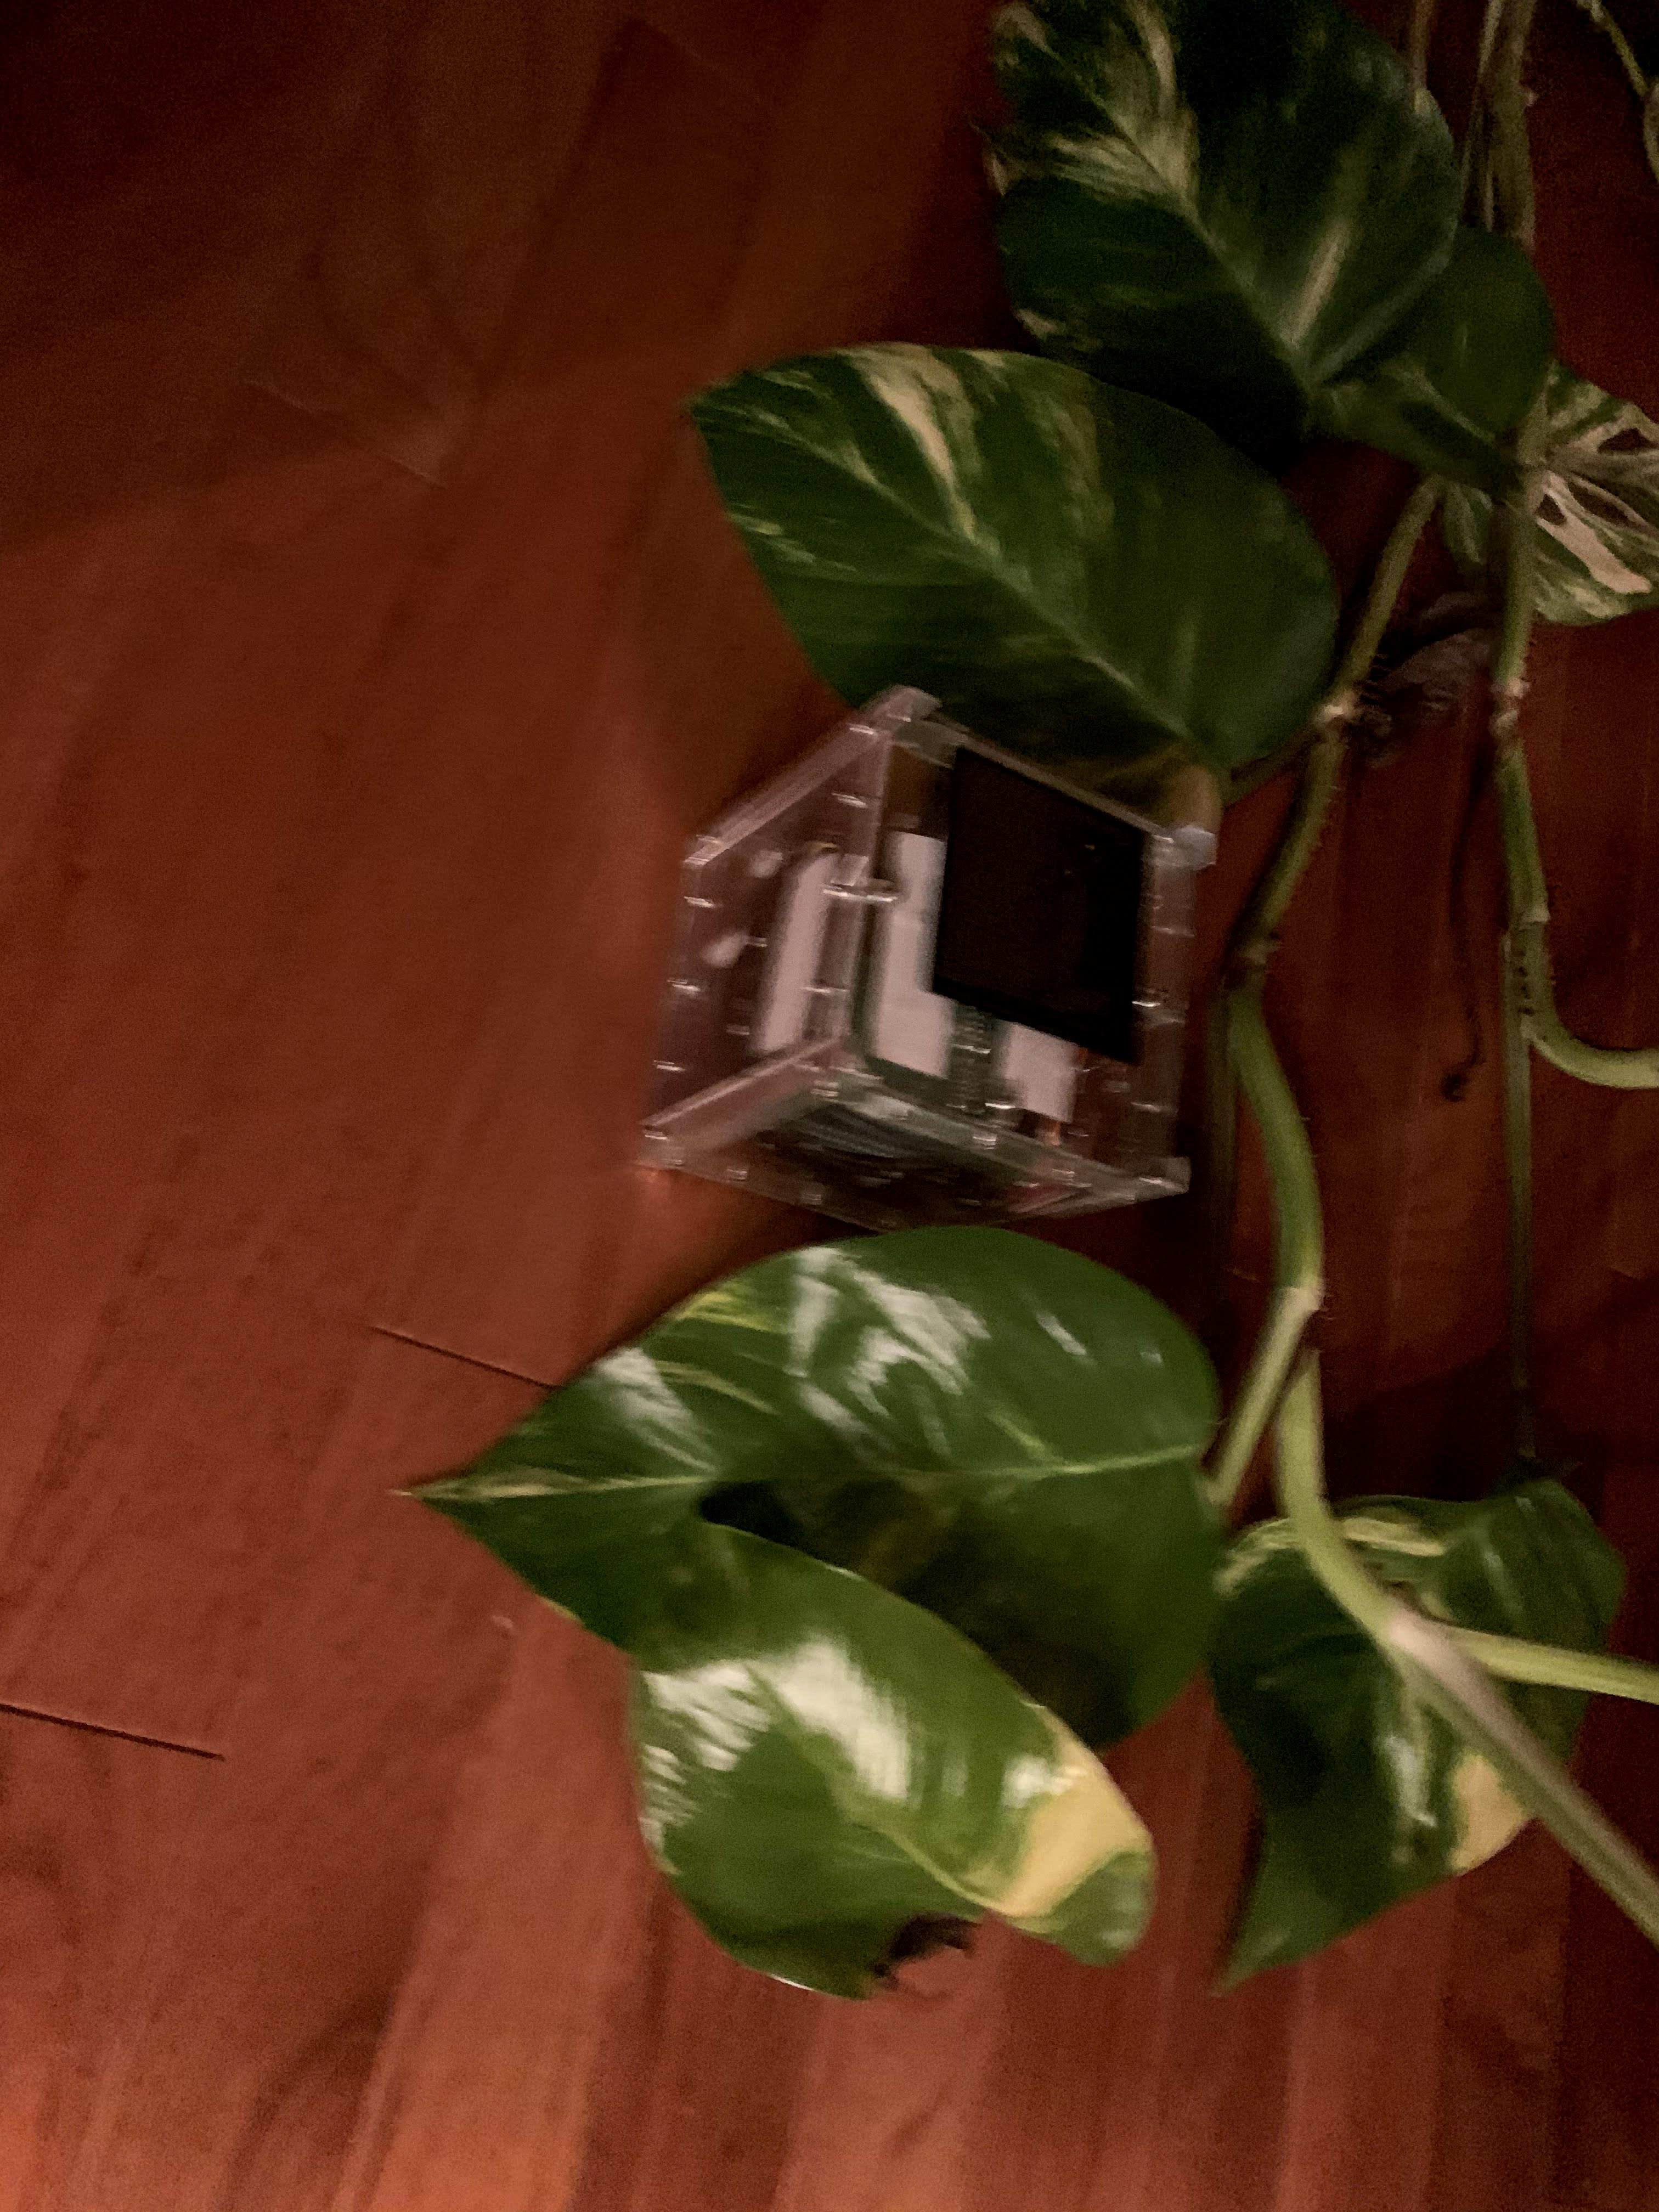Space-debris-cubesat: (638, 681, 1234, 1235)
